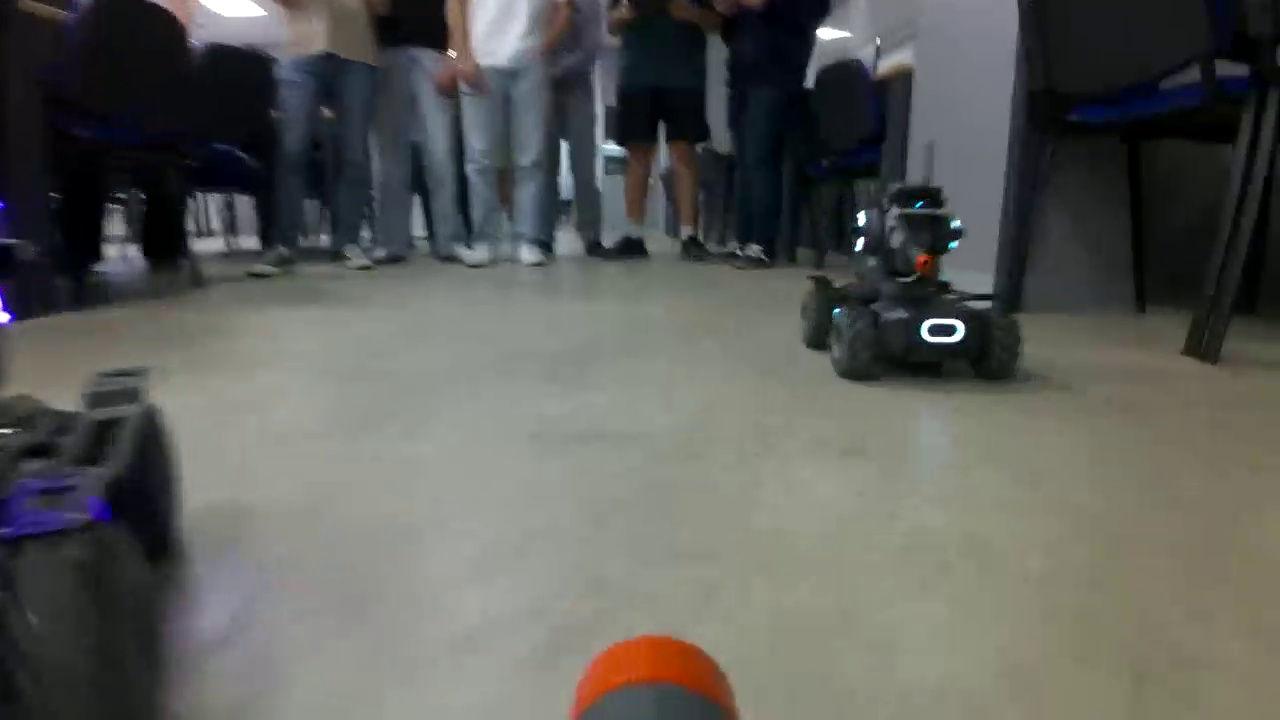robot: (1, 370, 200, 715), (799, 182, 1022, 383)
